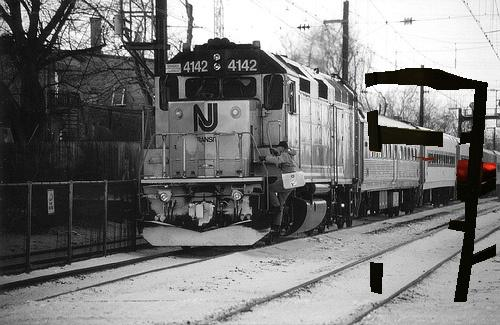tampered: (366, 69, 496, 302)
